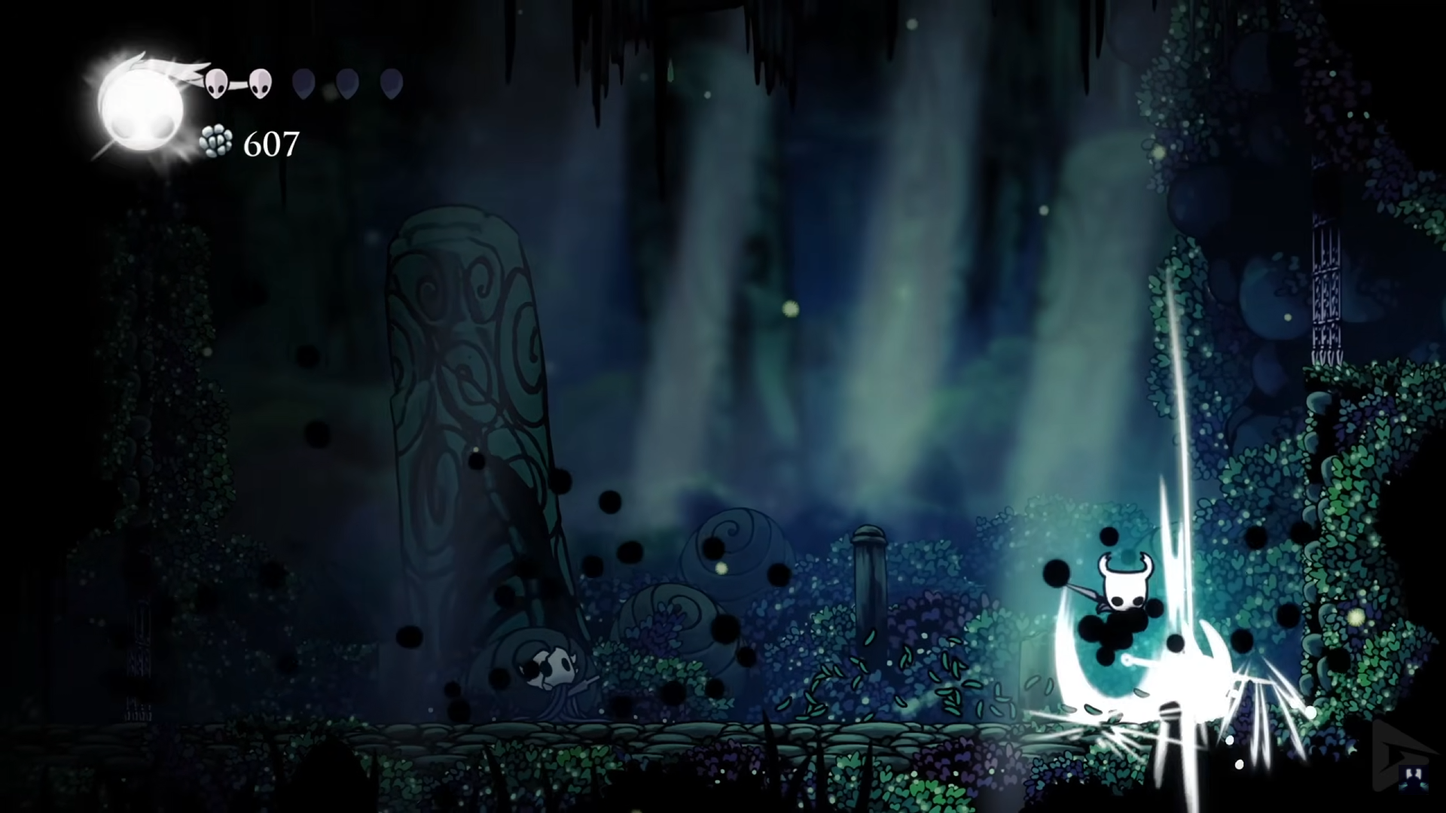HK: (1090, 547, 1159, 626)
